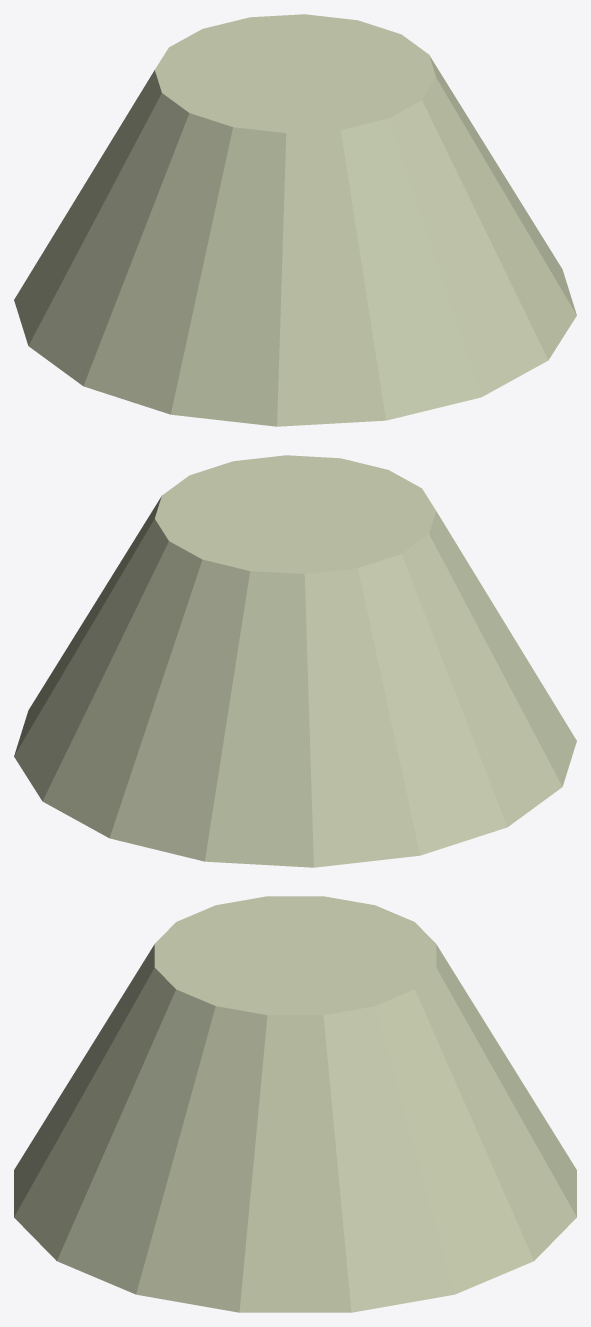
Rendered from alnair_crew_s1p5_1_collider.obj.
3 views of the same model, one above another, from view 1: azimuth 30°, elevation 25°; view 2: azimuth 150°, elevation 25°; view 3: azimuth 270°, elevation 25° (orthographic).
Parts seen in each view (by area): view 1: collider; view 2: collider; view 3: collider.
Part boxes in pixels (x1,y1,x2,y2): collider: (14, 14, 576, 426); collider: (14, 455, 576, 867); collider: (14, 896, 576, 1312).
Size of the model in its own units: 1.88 by 0.875 by 1.88.
